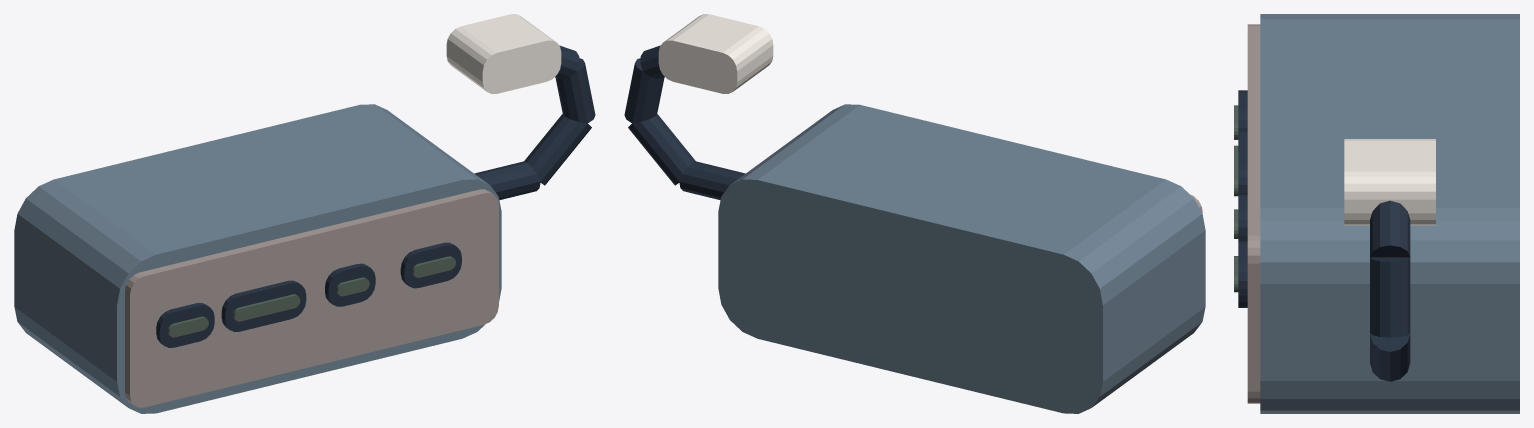
Rendered from adapterhub.glb.
3 renders of one model, left to right at view 1: azimuth 30°, elevation 25°; view 2: azimuth 150°, elevation 25°; view 3: azimuth 270°, elevation 25°, orthographic. The views are drawn at different scales.
Parts seen in each view (by area): view 1: shell, face, plug, port 1, cable1, port 3, cable2, cable0, port 0, port 2, port tongue 1, port tongue 3 (+2 smaller); view 2: shell, plug, cable1, cable2, cable0, cable3; view 3: shell, plug, face, cable2, cable3, cable1, port 3, port 1, port 2, port 0.
Part boxes in pixels (x1=…): shell: x1=14, y1=104, x2=501, y2=413; face: x1=125, y1=189, x2=498, y2=407; plug: x1=446, y1=14, x2=561, y2=93; port 1: x1=221, y1=280, x2=306, y2=331; cable1: x1=524, y1=114, x2=591, y2=185; port 3: x1=400, y1=242, x2=461, y2=288; cable2: x1=555, y1=58, x2=595, y2=123; cable0: x1=474, y1=161, x2=540, y2=200; port 0: x1=156, y1=303, x2=214, y2=347; port 2: x1=325, y1=263, x2=375, y2=306; port tongue 1: x1=233, y1=294, x2=300, y2=321; port tongue 3: x1=412, y1=256, x2=455, y2=277; shell: x1=718, y1=104, x2=1205, y2=413; plug: x1=658, y1=14, x2=773, y2=93; cable1: x1=628, y1=114, x2=695, y2=185; cable2: x1=624, y1=58, x2=664, y2=123; cable0: x1=679, y1=161, x2=745, y2=200; cable3: x1=640, y1=45, x2=664, y2=78; shell: x1=1260, y1=14, x2=1519, y2=413; plug: x1=1344, y1=139, x2=1435, y2=225; face: x1=1247, y1=24, x2=1260, y2=403; cable2: x1=1370, y1=257, x2=1410, y2=337; cable3: x1=1370, y1=200, x2=1410, y2=257; cable1: x1=1370, y1=333, x2=1410, y2=381; port 3: x1=1238, y1=241, x2=1247, y2=307; port 1: x1=1238, y1=130, x2=1247, y2=194; port 2: x1=1238, y1=194, x2=1247, y2=241; port 0: x1=1238, y1=90, x2=1247, y2=130.
Bounding box in the file's own units: 2.02 × 0.895 × 0.749.
